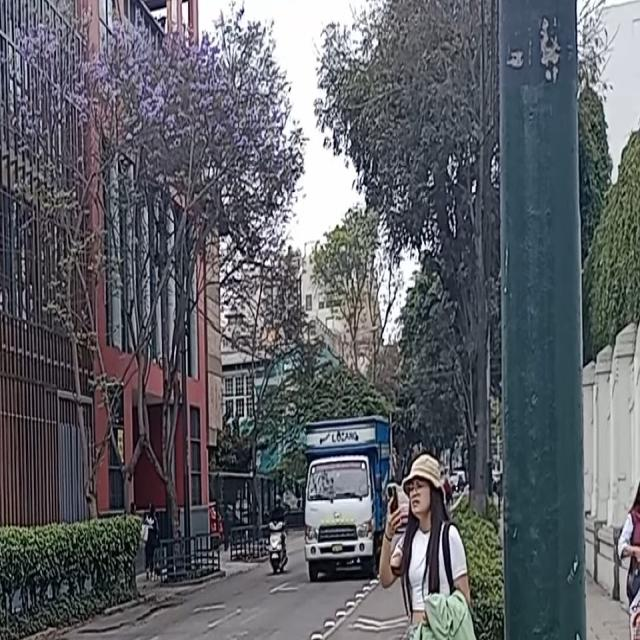motorcycle: (262, 515, 289, 578)
truck: (300, 418, 392, 585)
